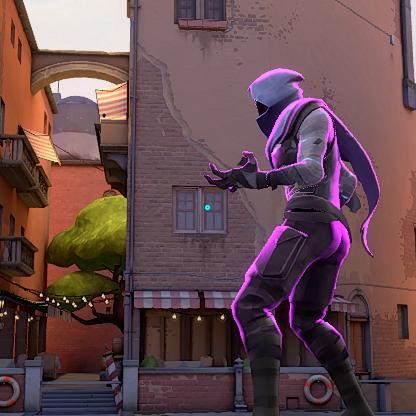enemyHead: (285, 132, 343, 220), (259, 76, 298, 114)
